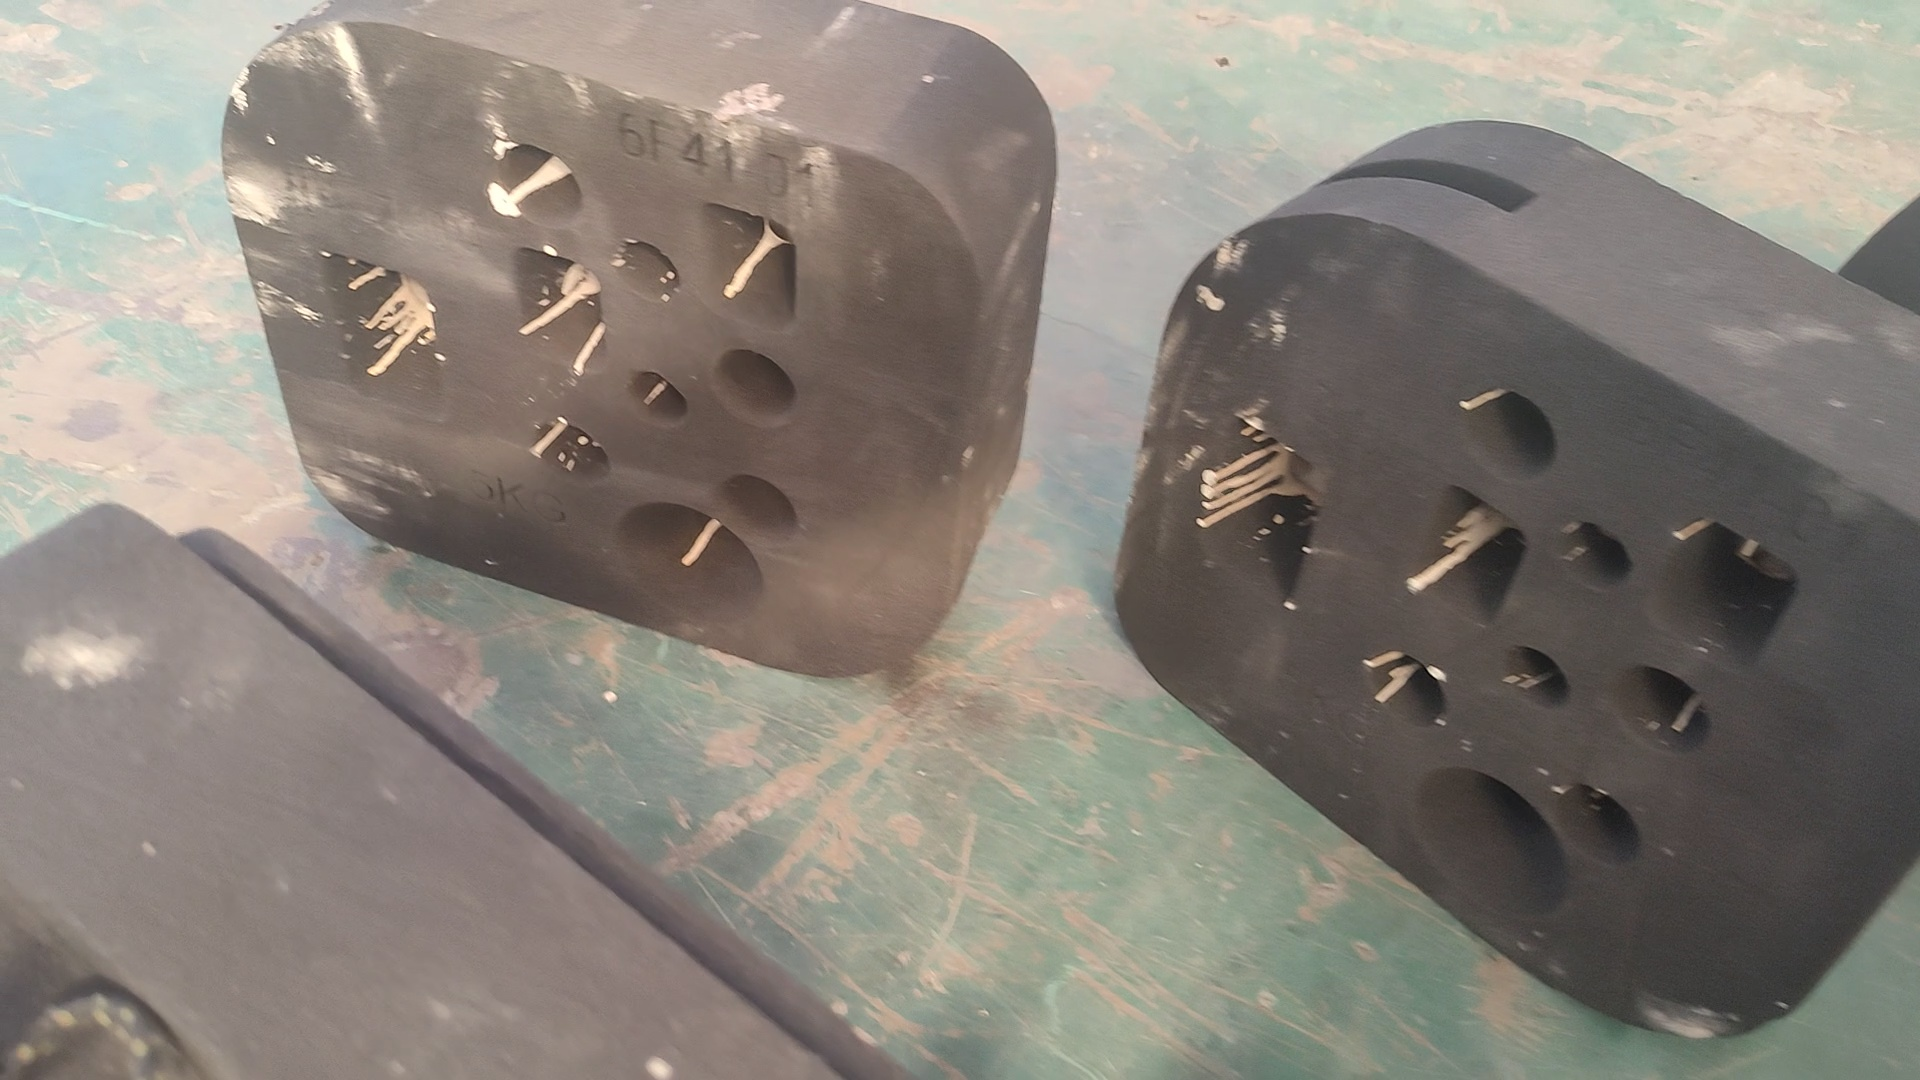pouring hole: (1411, 767, 1567, 918), (613, 502, 764, 620)
